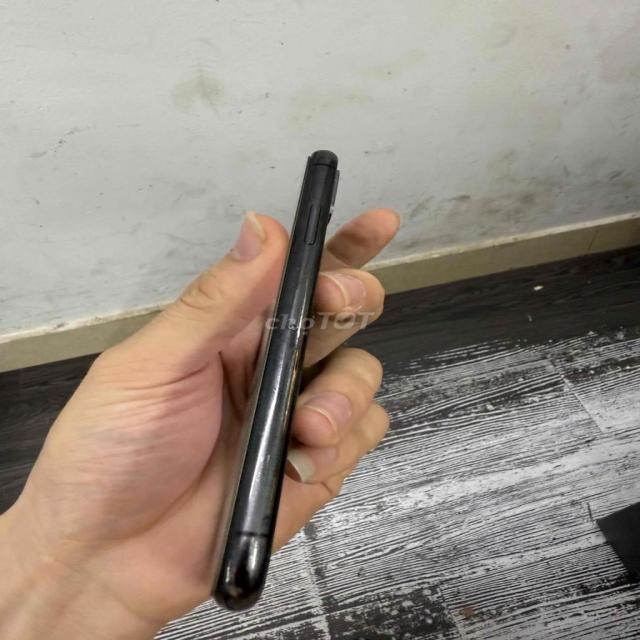gen_x_xs: (212, 150, 338, 609)
